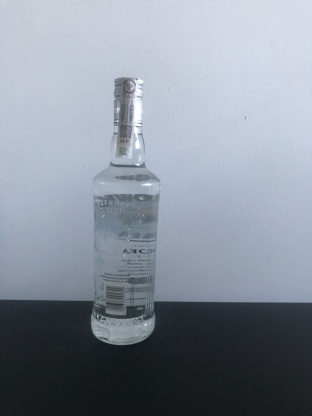nakretka: (111, 72, 145, 130)
